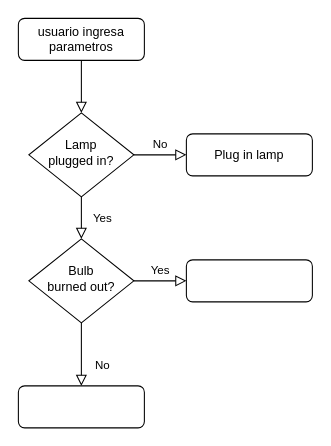
Some shapes in this 331 by 446 pixel diagram are drawn without their labels. Each missing label, with the centre of its shape:
"Repair Lamp" goes at pixel 80 406.
"Replace Bulb" goes at pixel 248 280.
